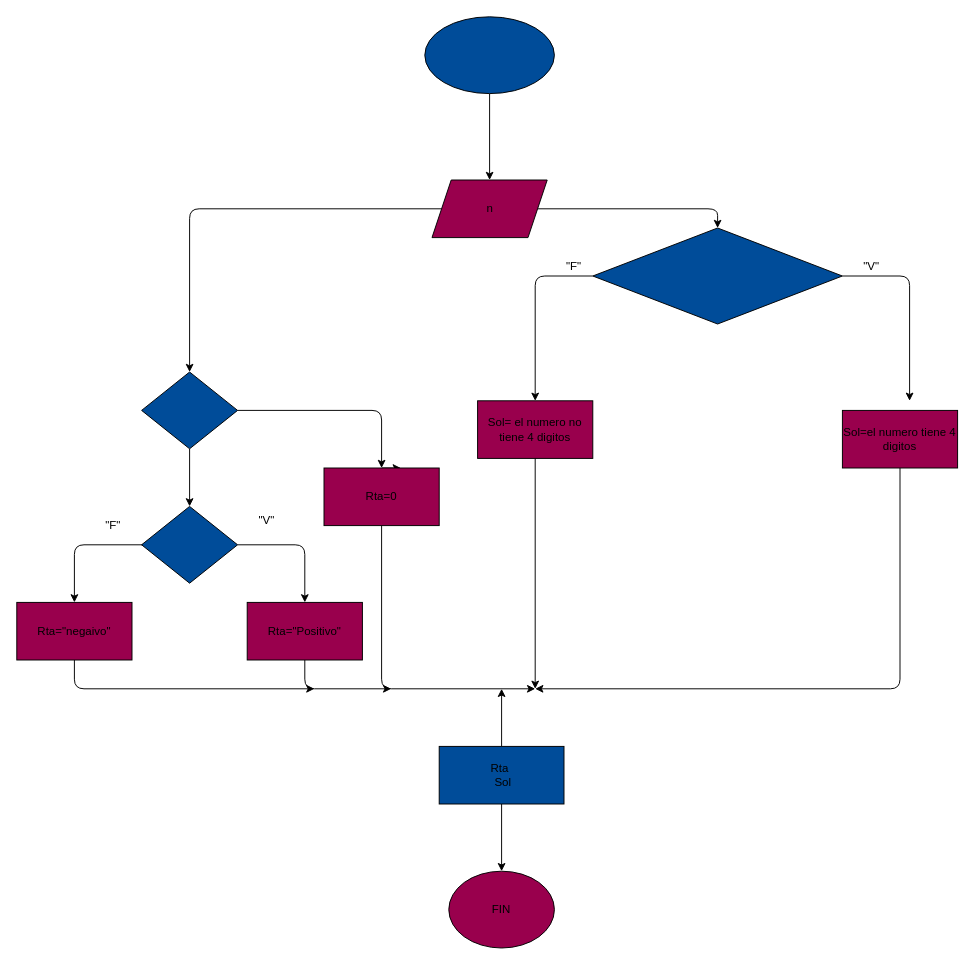
Some shapes in this 974 by 965 pixel diagram are drawn without their labels. Here are the shapes that lost their labels. From the top down, the centre of each, then its label:
At (489,55): "INICIO".
At (717,275): "(n>1000 y n<10000) o (n<-1000 y n>-10000)".
At (189,410): "n==0".
At (189,544): "n>0".
